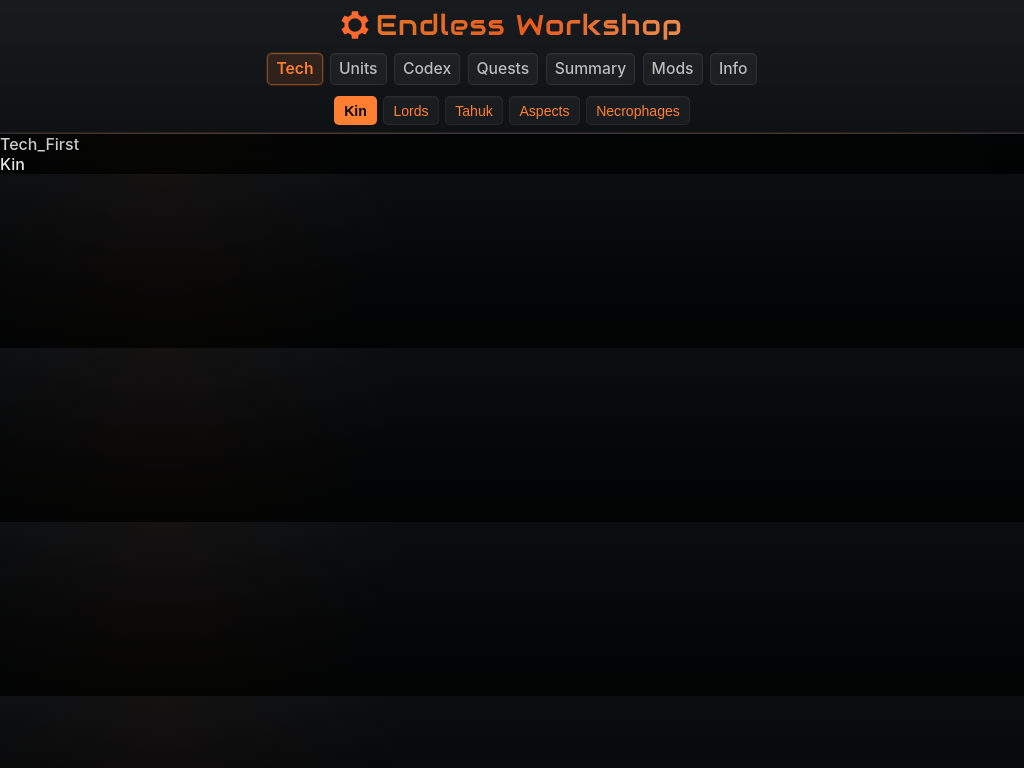
Test: TechTree selected tech interactions › keeps faction switching clearing selected techs
Click the button "Lords" at (411, 111), box [383,96,439,125]
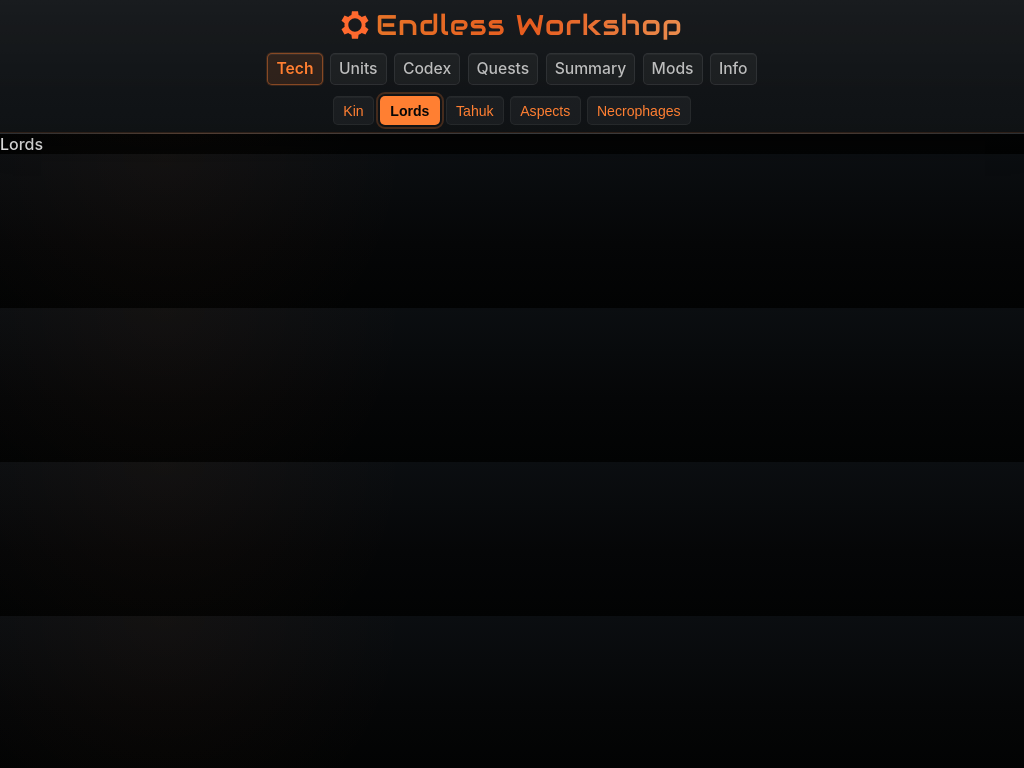
expect the text with test id "selected-faction" reads "Lords": met, box [0,134,43,154]
